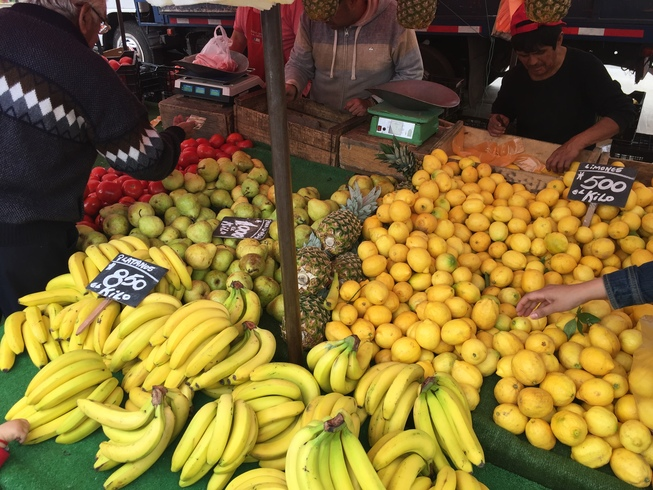precio: (84, 251, 170, 312), (566, 157, 642, 219), (210, 211, 281, 251)
